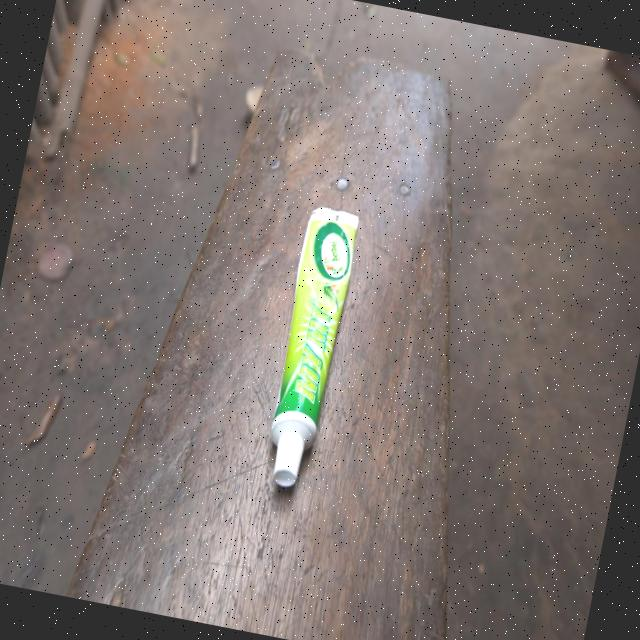Toothpaste: (257, 205, 364, 493)
